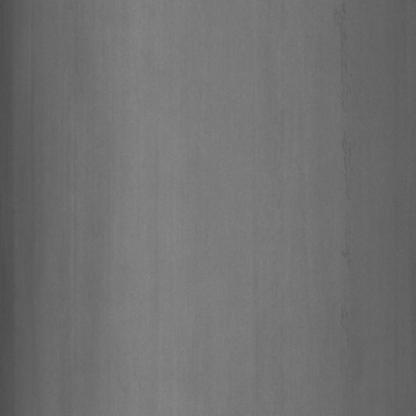silk_spot: (331, 0, 361, 270)
